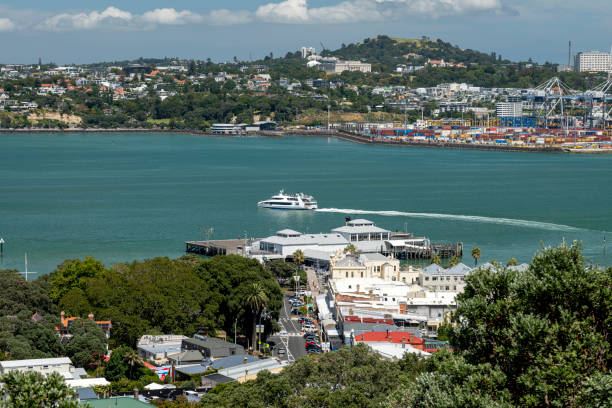ferry: (263, 188, 318, 210)
